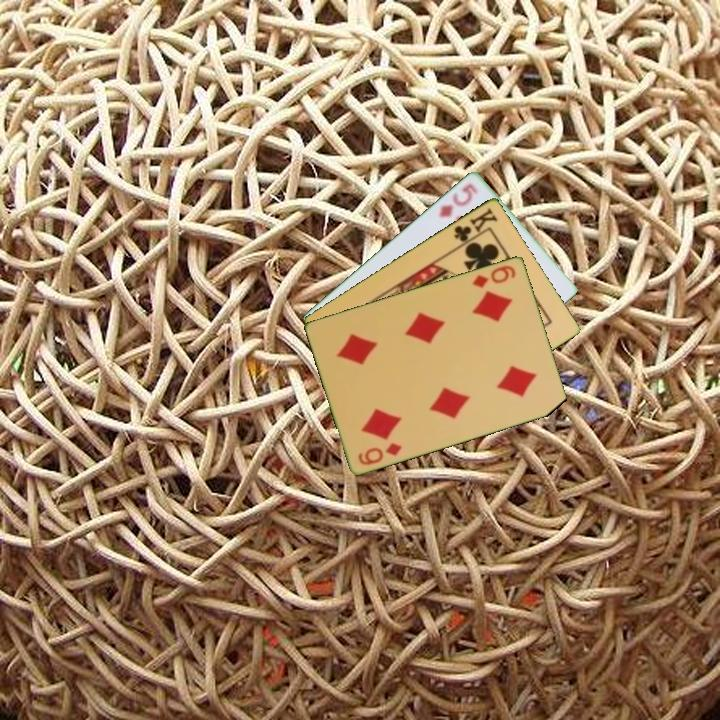5d: (435, 179, 481, 221)
6d: (469, 261, 519, 290), (355, 439, 405, 468)
Kc: (450, 204, 501, 249)
